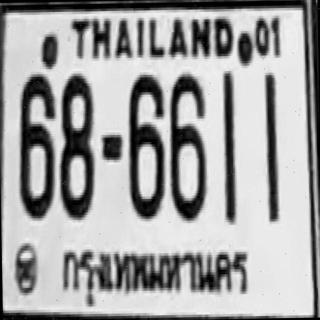N01: (220, 70, 236, 222), (262, 72, 278, 221)
N06: (17, 72, 56, 218), (168, 71, 206, 218), (127, 72, 165, 216)
N08: (58, 72, 95, 219)
P04: (58, 238, 251, 308)
